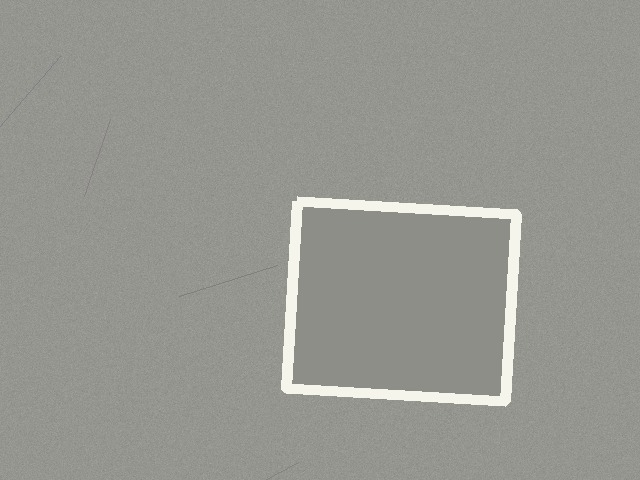parking_area: (286, 201, 516, 401)
